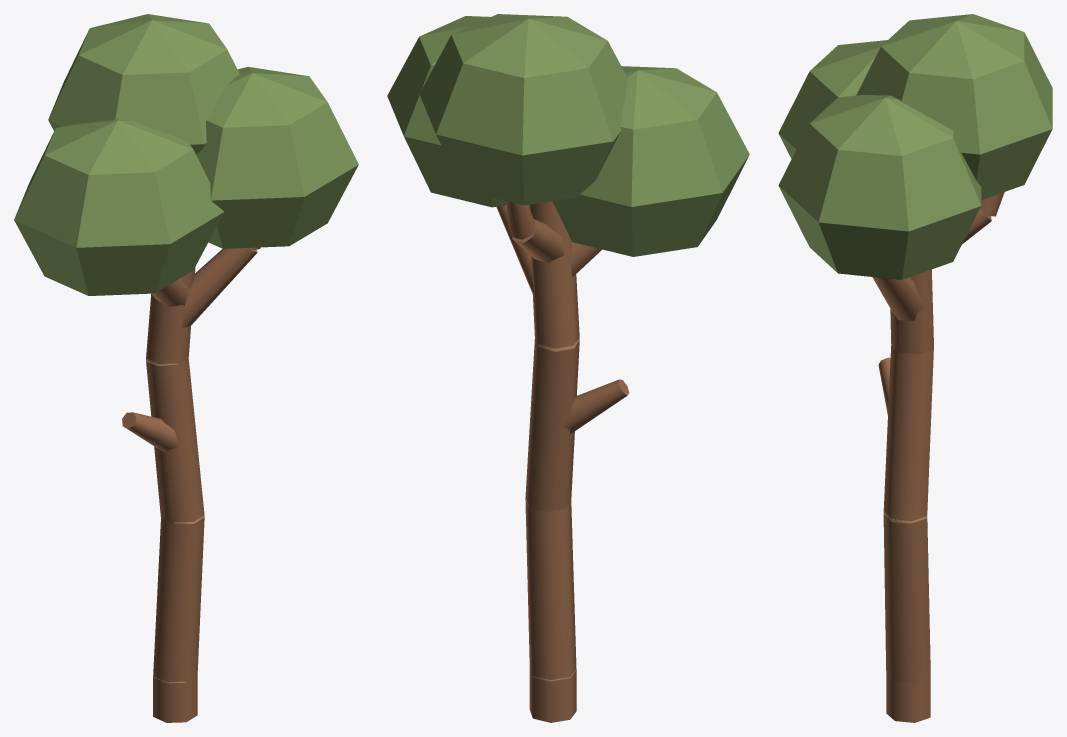
Rendered from tree.glb.
3 renders of one model, left to right at view 1: azimuth 30°, elevation 25°; view 2: azimuth 150°, elevation 25°; view 3: azimuth 270°, elevation 25°, orthographic. The views are drawn at different scales.
Parts seen in each view (by area): view 1: Leaves, Leaves2, Leaves3, Trunk, Trunk2, Trunk3, Fork, Stump, BrokenBranch, Fork2; view 2: Leaves3, Leaves, Trunk, Trunk2, Leaves2, Trunk3, Stump, BrokenBranch, Fork3, Twig3, Fork, Fork2; view 3: Leaves2, Leaves3, Trunk2, Trunk, Leaves, Trunk3, Stump, Fork.
Part boxes in pixels (x1,y1,x2,y2): Leaves: (14, 119, 224, 295); Leaves2: (196, 66, 358, 248); Leaves3: (48, 14, 239, 154); Trunk: (153, 517, 204, 682); Trunk2: (146, 358, 204, 523); Trunk3: (146, 267, 195, 364); Fork: (182, 248, 257, 327); Stump: (153, 676, 197, 722); BrokenBranch: (122, 412, 178, 452); Fork2: (152, 278, 190, 307); Leaves3: (419, 14, 627, 205); Leaves: (552, 66, 749, 256); Trunk: (525, 499, 576, 679); Trunk2: (525, 338, 579, 511); Leaves2: (387, 16, 506, 207); Trunk3: (528, 201, 579, 348); Stump: (529, 669, 576, 722); BrokenBranch: (562, 379, 629, 434); Fork3: (512, 219, 563, 263); Twig3: (506, 201, 535, 239); Fork: (496, 205, 533, 293); Fork2: (570, 241, 601, 276); Leaves2: (778, 95, 981, 279); Leaves3: (856, 14, 1052, 199); Trunk2: (883, 345, 933, 521); Trunk: (883, 514, 930, 682); Leaves: (778, 40, 887, 158); Trunk3: (890, 269, 933, 354); Stump: (886, 673, 930, 722); Fork: (872, 277, 924, 320).
Bounding box in the file's own units: 1.85 × 3.76 × 1.35.
